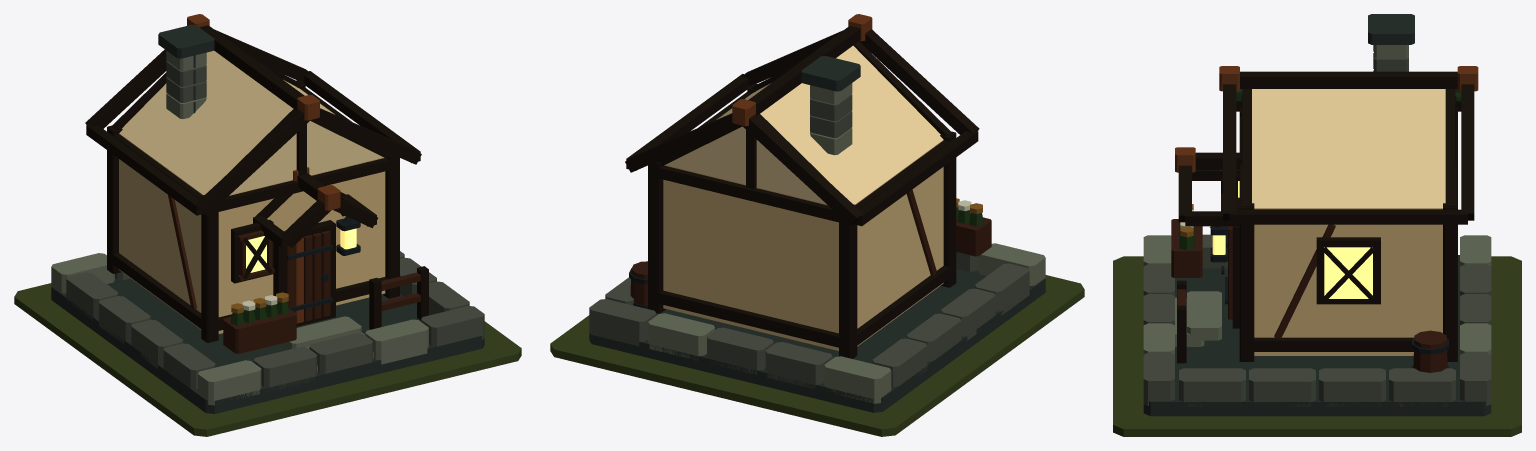
Rendered from cottage_t3.glb.
The picture shows the model from 3 angles, left to right: view 1: azimuth 30°, elevation 25°; view 2: azimuth 150°, elevation 25°; view 3: azimuth 270°, elevation 25°; orthographic projection. The views are drawn at different scales.
Parts seen in each view (by area): view 1: MMR | cottage | T03 Architecture.001, MMR | cottage | Tier 03 Ground.001; view 2: MMR | cottage | T03 Architecture.001, MMR | cottage | Tier 03 Ground.001; view 3: MMR | cottage | T03 Architecture.001, MMR | cottage | Tier 03 Ground.001.
Boxes of the visible parts, bbox=[...] form: MMR | cottage | T03 Architecture.001: bbox=[51, 14, 484, 413]; MMR | cottage | Tier 03 Ground.001: bbox=[14, 283, 521, 436]; MMR | cottage | T03 Architecture.001: bbox=[589, 14, 1045, 412]; MMR | cottage | Tier 03 Ground.001: bbox=[550, 275, 1084, 436]; MMR | cottage | T03 Architecture.001: bbox=[1143, 14, 1491, 416]; MMR | cottage | Tier 03 Ground.001: bbox=[1113, 256, 1521, 436].
Size of the model in its own units: 2.35 by 1.92 by 2.35.
2 materials, 1 textured.
